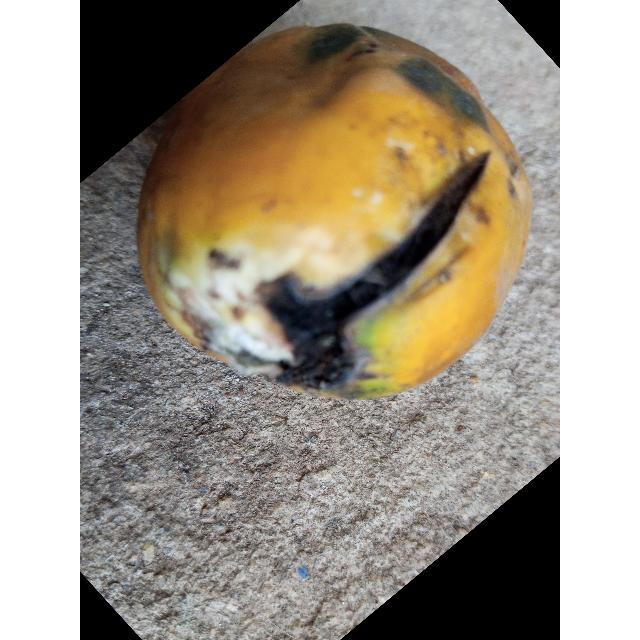damaged: (136, 22, 533, 400)
